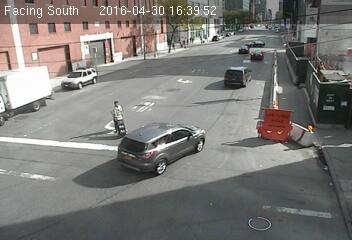neg: (175, 107, 208, 151), (223, 153, 254, 195), (21, 164, 49, 200), (172, 184, 199, 220), (126, 177, 153, 212), (136, 54, 161, 86), (23, 105, 47, 137), (36, 55, 59, 86), (79, 41, 102, 71), (280, 184, 302, 214), (157, 23, 179, 53), (57, 151, 79, 180), (275, 41, 295, 68), (272, 113, 292, 139), (250, 80, 268, 105), (208, 73, 226, 97), (226, 27, 243, 49), (302, 130, 318, 151)
pos: (99, 95, 127, 132)
